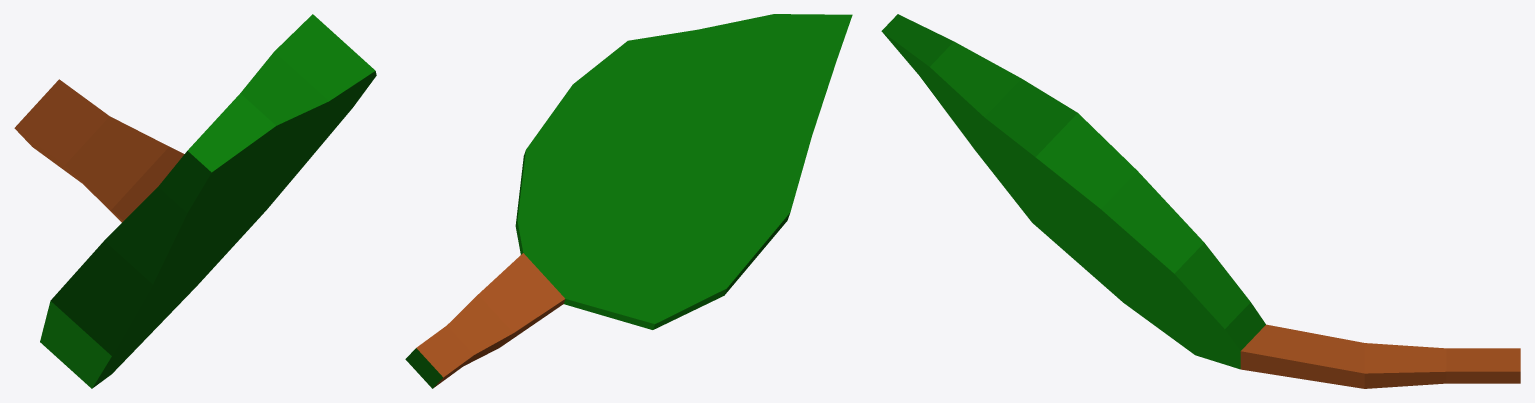
Rendered from yaprak_2.fbx.
3 views of the same model, side by side, from view 1: azimuth 30°, elevation 25°; view 2: azimuth 150°, elevation 25°; view 3: azimuth 270°, elevation 25° (orthographic). The views are drawn at different scales.
Parts seen in each view (by area): view 1: Cube.005; view 2: Cube.005; view 3: Cube.005.
Boxes of the visible parts, bbox=[...] form: Cube.005: bbox=[14, 14, 376, 388]; Cube.005: bbox=[405, 14, 852, 388]; Cube.005: bbox=[881, 14, 1520, 388].
Bounding box in the file's own units: 0.185 × 0.1952 × 0.3756.
